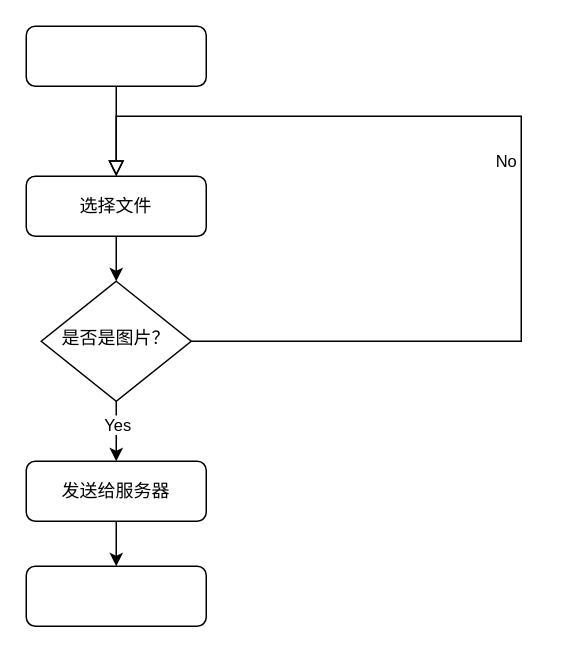
The diagram is 563 pixels wide and 653 high, and some of its shapes have lost their labels. Each missing label, with the centre of its shape:
AI模块处理: point (115, 595)
点击上传图片: point (115, 55)
